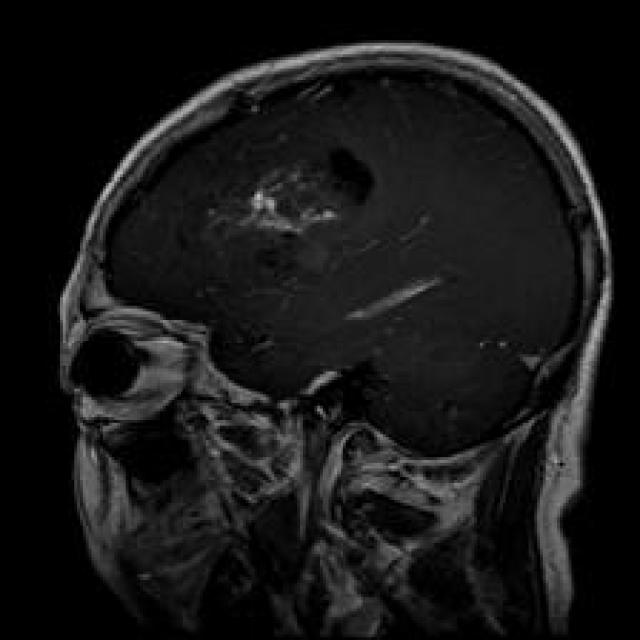glioma_tumor: (180, 140, 387, 294)
